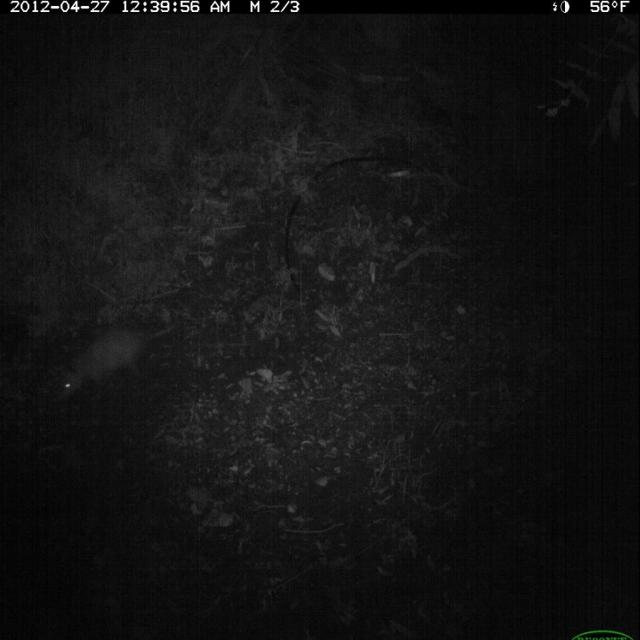opossum: (50, 312, 192, 408)
